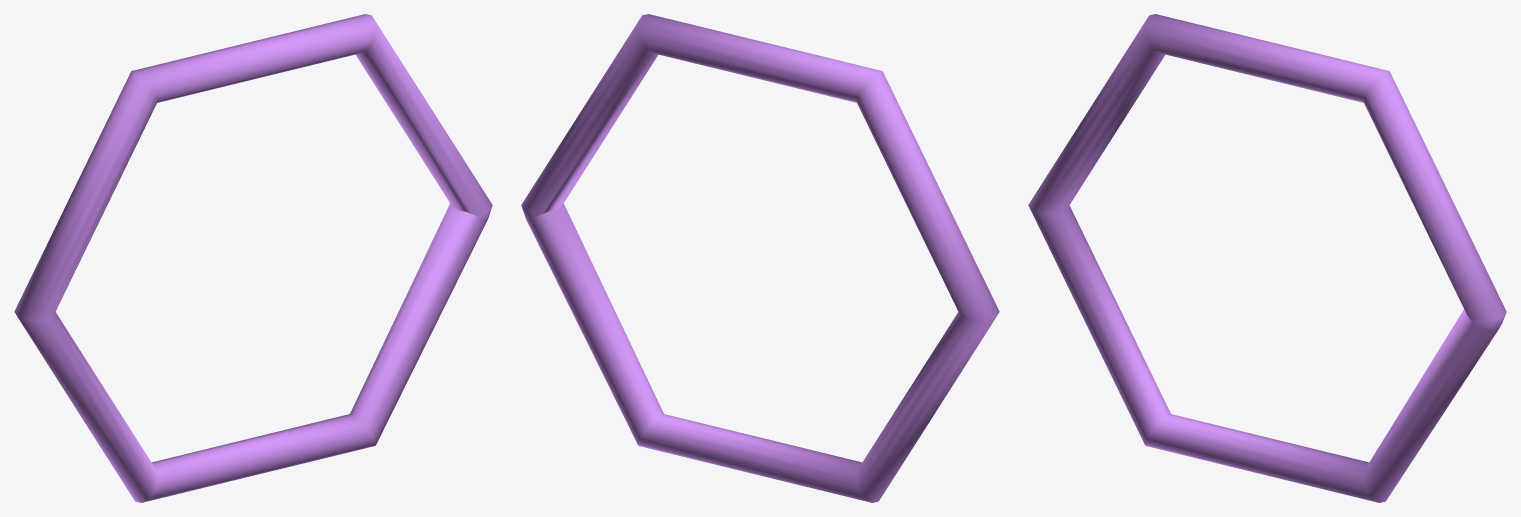
File: hexagon-BgjfN6v9.glb
3 renders of one model, left to right at view 1: azimuth 30°, elevation 25°; view 2: azimuth 150°, elevation 25°; view 3: azimuth 330°, elevation 25°, orthographic.
Visible parts, largest first — view 1: R3D_hexagon_Body_0; view 2: R3D_hexagon_Body_0; view 3: R3D_hexagon_Body_0.
Boxes of the visible parts, x1=… form: R3D_hexagon_Body_0: x1=14, y1=14, x2=492, y2=502; R3D_hexagon_Body_0: x1=521, y1=14, x2=999, y2=502; R3D_hexagon_Body_0: x1=1028, y1=14, x2=1506, y2=502.
Size of the model in its own units: 2.38 by 2.06 by 0.18.
